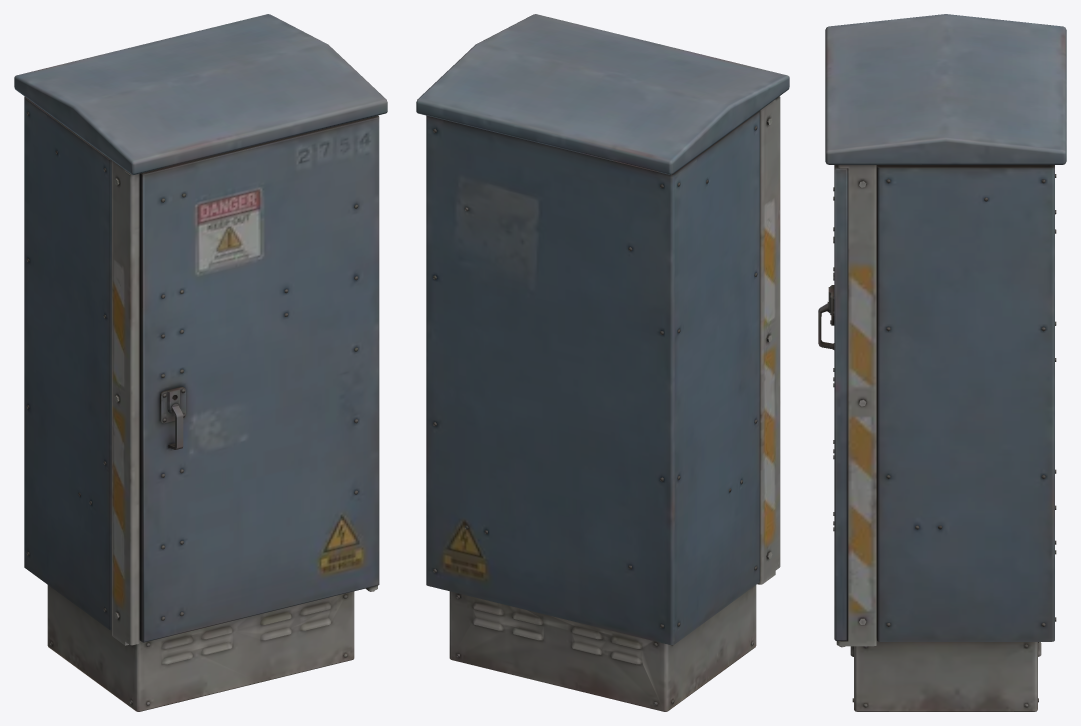
File: utility_box_01.glb
The picture shows the model from 3 angles, left to right: view 1: azimuth 30°, elevation 25°; view 2: azimuth 150°, elevation 25°; view 3: azimuth 270°, elevation 25°; orthographic projection.
Visible parts, largest first — view 1: utility_box_01_box; view 2: utility_box_01_box; view 3: utility_box_01_box.
Boxes of the visible parts, x1,y1,x2,y2 form: utility_box_01_box: (14, 14, 387, 711); utility_box_01_box: (416, 14, 789, 711); utility_box_01_box: (818, 14, 1066, 711).
Size of the model in its own units: 0.52 by 1.12 by 0.4319.
Materials: 1 (1 with a texture image).
